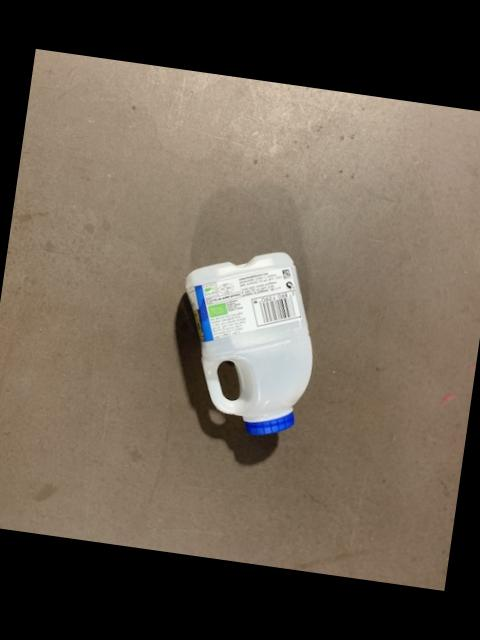plastic: (184, 251, 310, 433)
